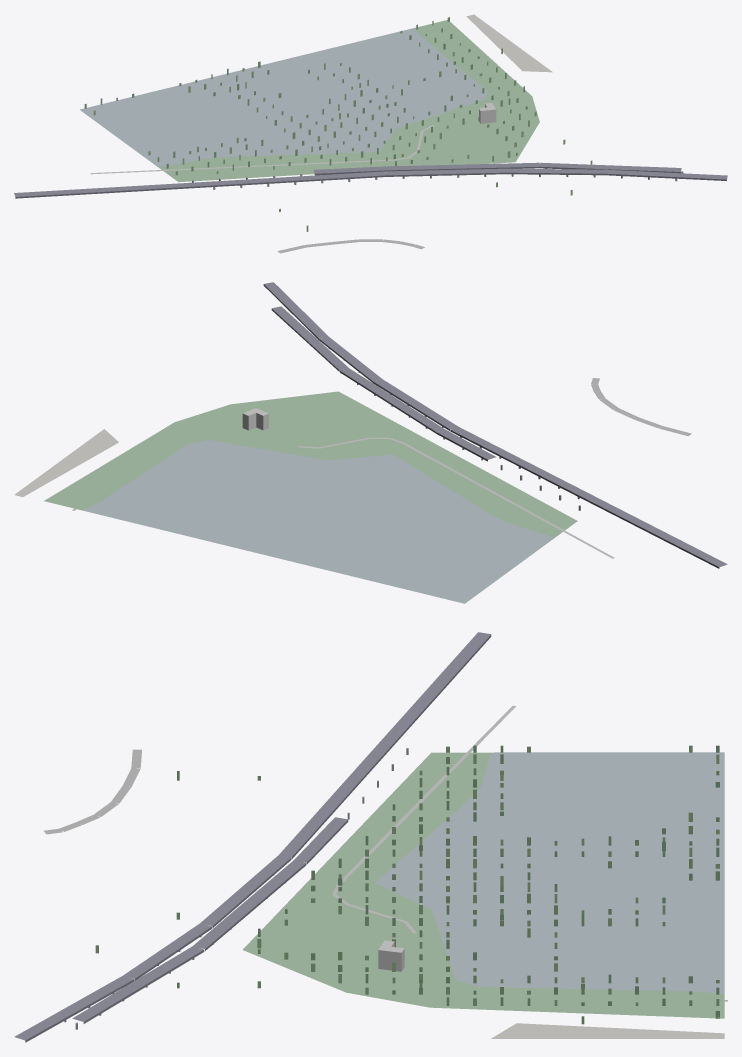
3 views of the same model, one above another, from view 1: azimuth 30°, elevation 25°; view 2: azimuth 150°, elevation 25°; view 3: azimuth 270°, elevation 25° (orthographic). The views are drawn at different scales.
Bounding box in the file's own units: 709 × 16.74 × 529.
